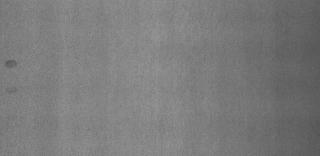oil spot: (4, 54, 20, 70), (2, 84, 22, 96)
